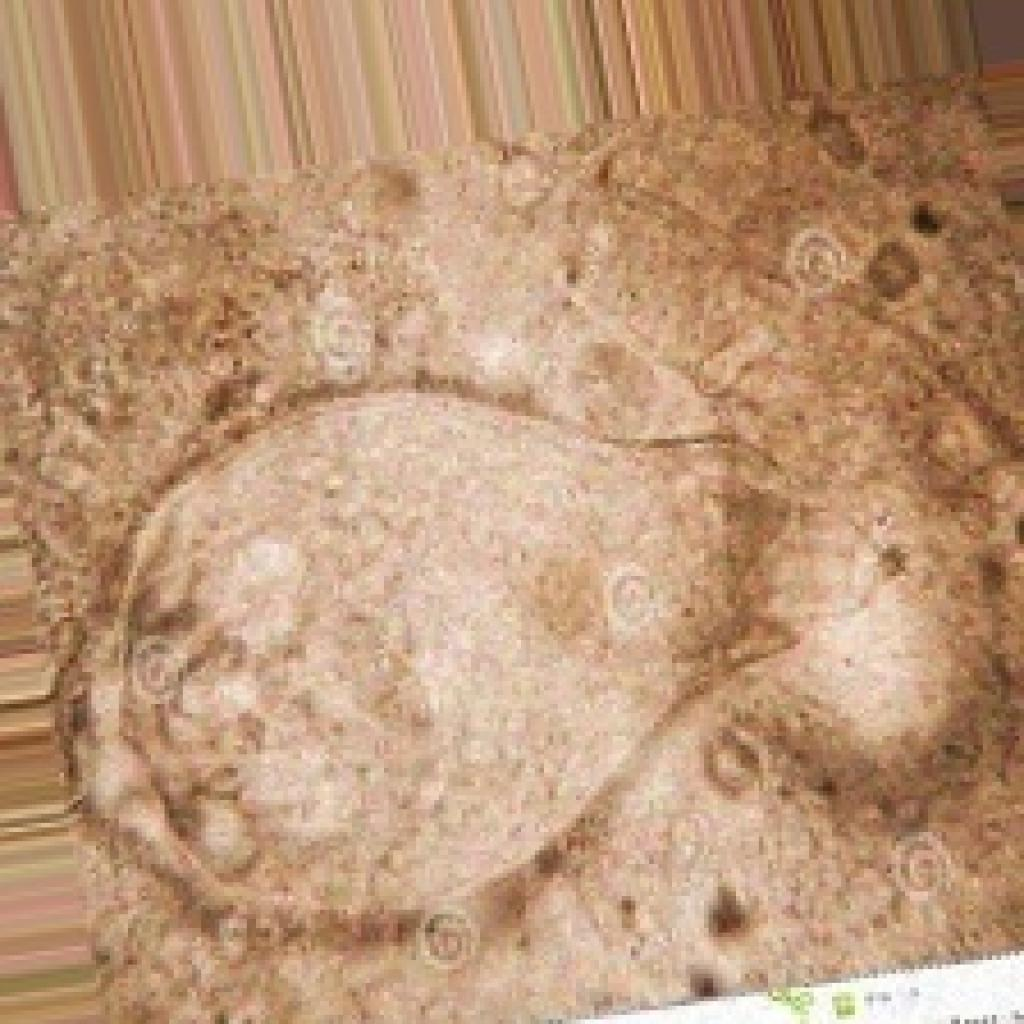Yeast: (0, 59, 1019, 1019)
